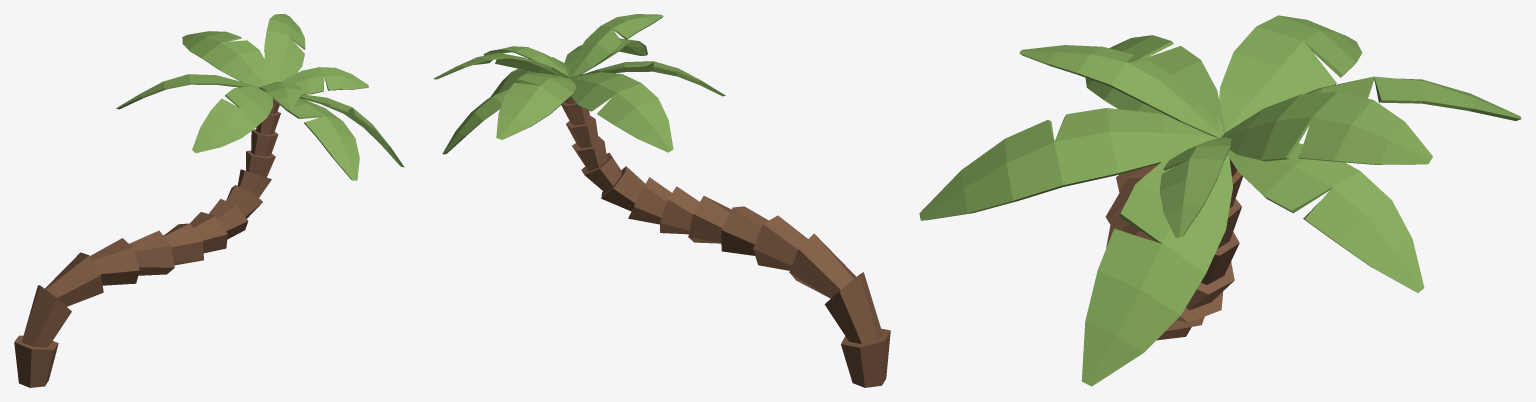
Rendered from Tree_4.fbx.
3 renders of one model, left to right at view 1: azimuth 30°, elevation 25°; view 2: azimuth 150°, elevation 25°; view 3: azimuth 270°, elevation 25°, orthographic. The views are drawn at different scales.
Visible parts, largest first — view 1: Tree_4; view 2: Tree_4; view 3: Tree_4.
Boxes of the visible parts, x1,y1,x2,y2 form: Tree_4: (14,14,404,387); Tree_4: (433,14,890,387); Tree_4: (919,15,1521,386).
Size of the model in its own units: 393 by 260 by 278.
